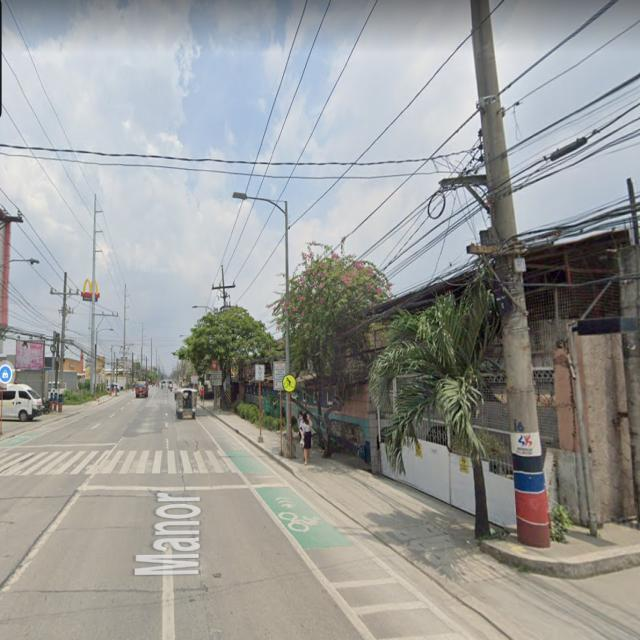bike lane: (280, 372, 300, 398)
